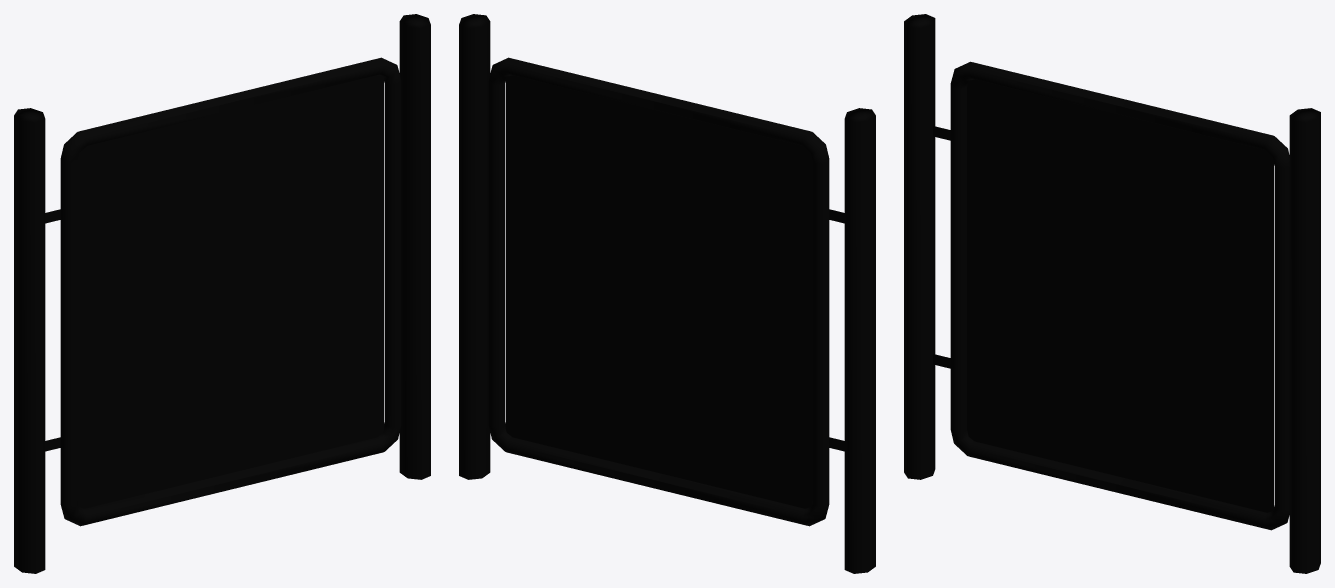
Rendered from FenceGateDoor.fbx.
3 renders of one model, left to right at view 1: azimuth 30°, elevation 25°; view 2: azimuth 150°, elevation 25°; view 3: azimuth 330°, elevation 25°, orthographic.
Parts seen in each view (by area): view 1: polySurface29, polySurface21, polySurface1, polySurface28; view 2: polySurface29, polySurface21, polySurface1, polySurface28; view 3: polySurface29, polySurface21, polySurface28, polySurface1.
Part boxes in pixels (<box>): polySurface29: <box>77,75,384,508</box>; polySurface21: <box>60,57,401,526</box>; polySurface1: <box>14,108,45,573</box>; polySurface28: <box>399,14,430,479</box>; polySurface29: <box>505,75,812,508</box>; polySurface21: <box>488,57,829,526</box>; polySurface1: <box>844,108,875,573</box>; polySurface28: <box>459,14,490,479</box>; polySurface29: <box>967,79,1274,512</box>; polySurface21: <box>950,61,1289,530</box>; polySurface28: <box>1289,108,1320,573</box>; polySurface1: <box>904,14,935,479</box>.
Bounding box in the file's own units: 314 × 330 × 23.76.
2 materials, 1 textured.
